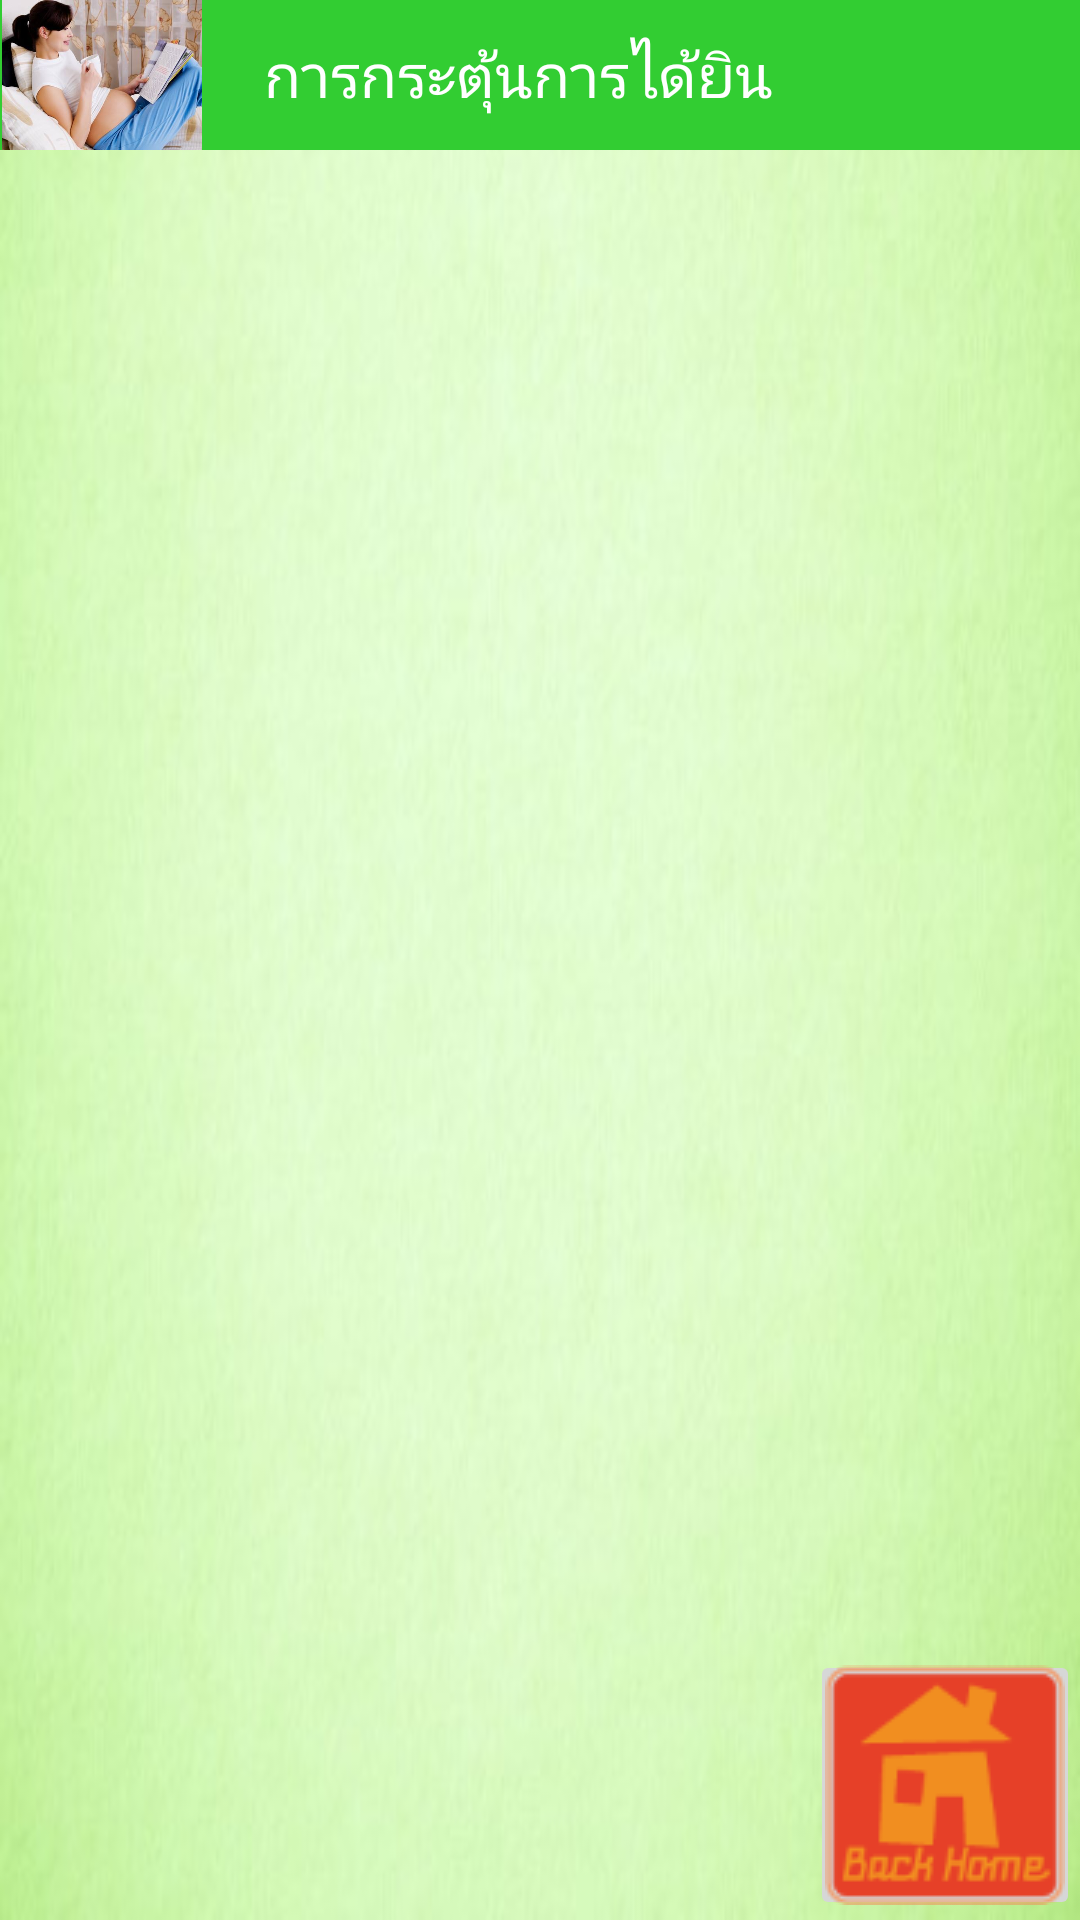

Screen size 1080×1920. Icon name, then its center in pixels as (x,y):
mom: (102,75)
